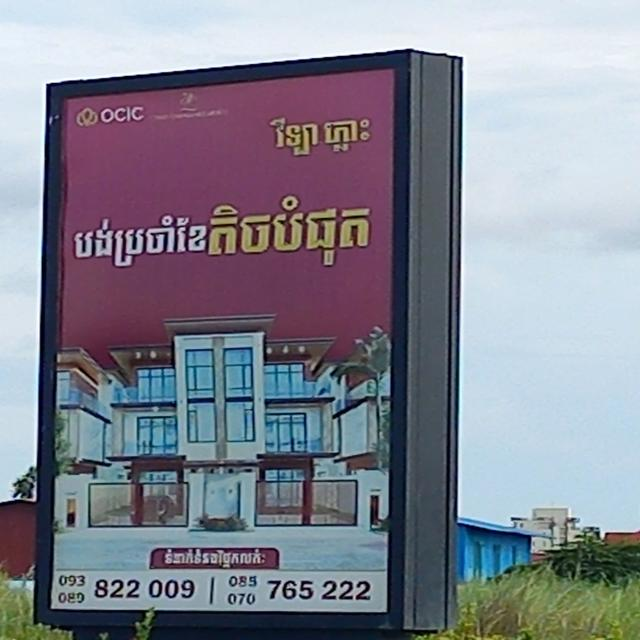1: (264, 105, 384, 160)
364: (226, 592, 257, 605)
396: (57, 591, 87, 606)
399: (227, 575, 259, 588)
445: (56, 574, 89, 588)
835: (262, 577, 373, 601)
848: (94, 577, 195, 599)
Yolov11_80vkh: (70, 186, 380, 277), (155, 546, 272, 569)
